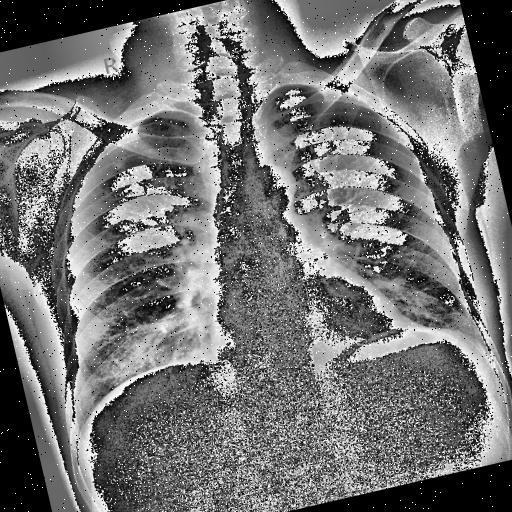0- Aortic enlargement: (243, 158, 304, 222)
13- Pulmonary fibrosis: (143, 157, 167, 188)
8- Nodule-Mass: (111, 160, 125, 171), (112, 160, 124, 170), (114, 161, 122, 170)
